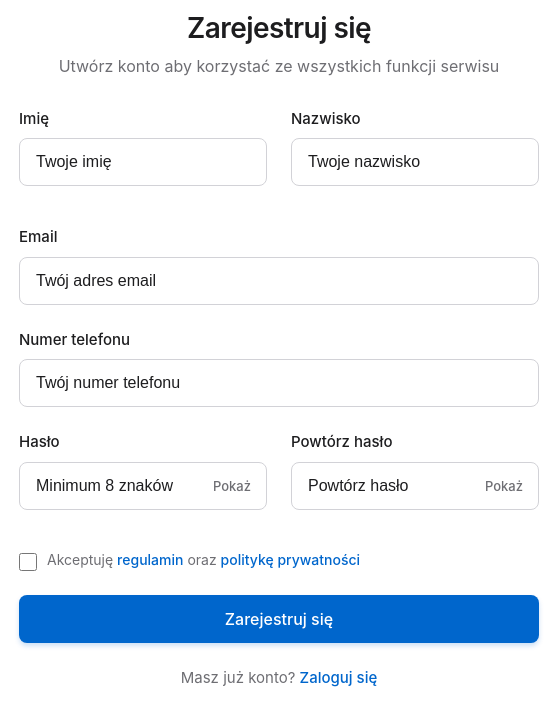
Test: <RegisterPage /> › shows validation errors when submitting empty form
This screenshot has width=559, height=717.
(page scrolled)
Click the button "Zarejestruj się" at coordinates (279, 619), box [19,595,539,643]
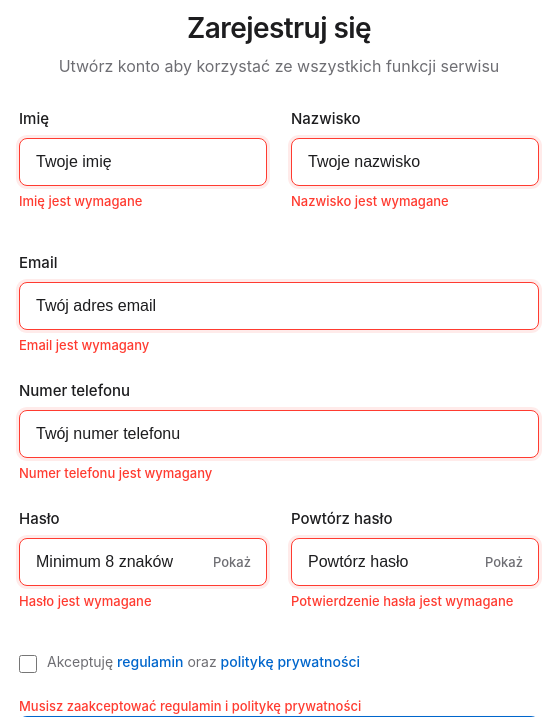
Result: the text "Imię jest wymagane" is shown at [19,193,142,209]
Result: the text "Nazwisko jest wymagane" is shown at [291,193,449,209]
Result: the text "Email jest wymagany" is shown at [19,337,149,353]
